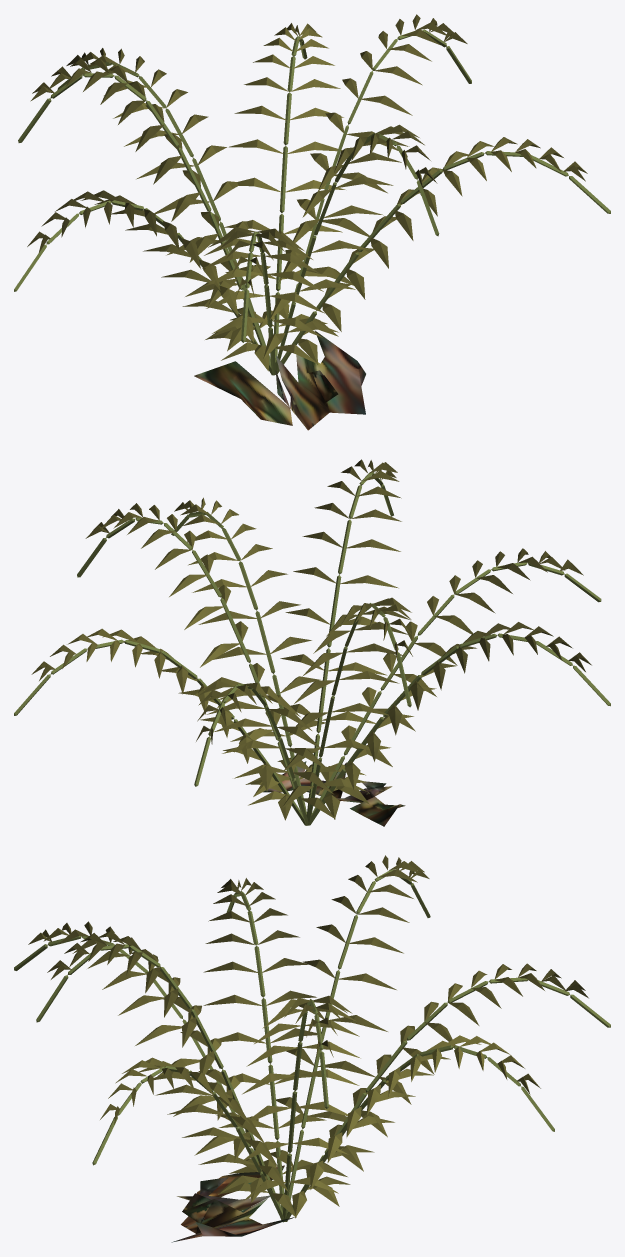
The model's file is focused.glb.
3 views of the same model, one above another, from view 1: azimuth 30°, elevation 25°; view 2: azimuth 150°, elevation 25°; view 3: azimuth 270°, elevation 25° (orthographic). The views are drawn at different scales.
Visible parts, largest first — view 1: Separated_fern_leaflets, Forge_fern_reference; view 2: Separated_fern_leaflets, Forge_fern_reference; view 3: Separated_fern_leaflets, Forge_fern_reference.
Part boxes in pixels (bbox=[...]): Separated_fern_leaflets: bbox=[27, 14, 587, 371]; Forge_fern_reference: bbox=[194, 330, 365, 430]; Separated_fern_leaflets: bbox=[31, 459, 591, 820]; Forge_fern_reference: bbox=[263, 761, 405, 826]; Separated_fern_leaflets: bbox=[28, 855, 588, 1218]; Forge_fern_reference: bbox=[171, 1165, 294, 1242].
Bounding box in the file's own units: 1.05 × 0.5988 × 1.05.
Materials: 3 (2 with a texture image).
